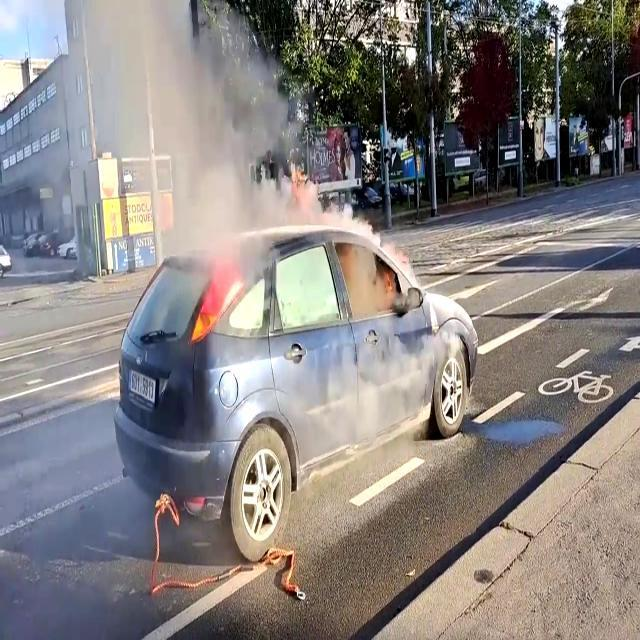Fire: (192, 268, 234, 339)
Smoke: (44, 0, 337, 274)
